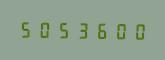five: (17, 18, 34, 39), (53, 19, 70, 39)
six: (89, 20, 106, 40)
three: (71, 19, 88, 40)
zero: (125, 20, 142, 41), (35, 19, 52, 39), (107, 20, 124, 40)
